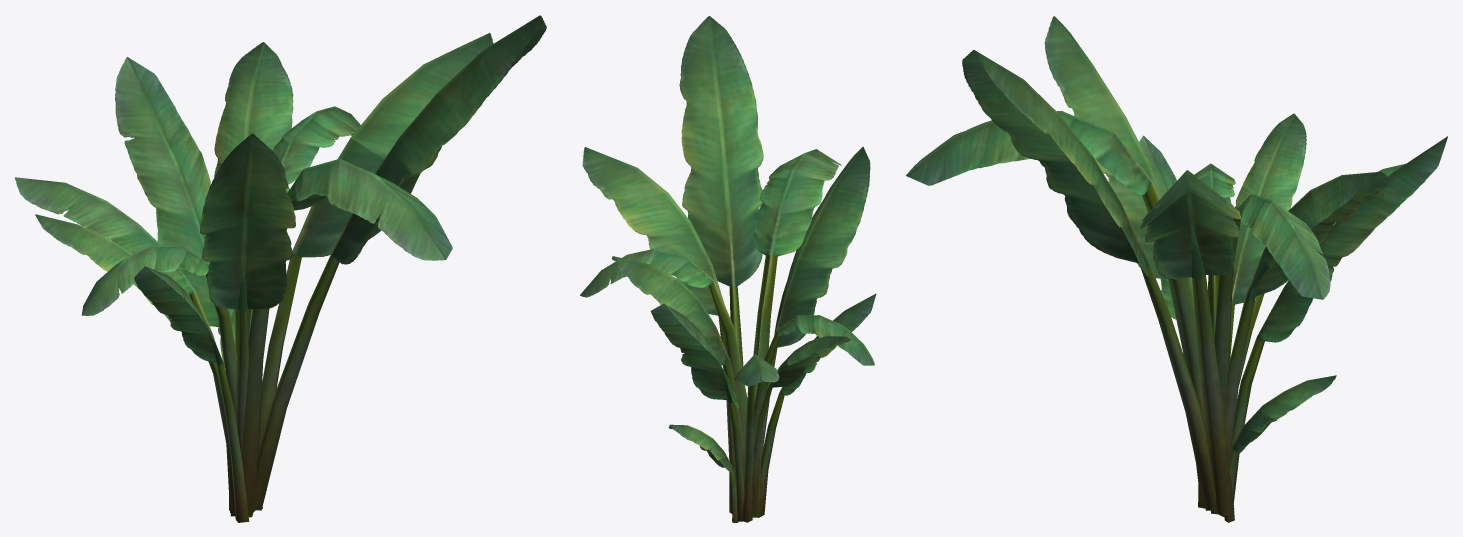
File: S_Tree_Green067.FBX
The picture shows the model from 3 angles, left to right: view 1: azimuth 30°, elevation 25°; view 2: azimuth 150°, elevation 25°; view 3: azimuth 270°, elevation 25°; orthographic projection. The views are drawn at different scales.
Visible parts, largest first — view 1: S_Tree_Green067; view 2: S_Tree_Green067; view 3: S_Tree_Green067.
Part boxes in pixels (left/top/right/bottom): S_Tree_Green067: left=15, top=15, right=546, bottom=522; S_Tree_Green067: left=580, top=16, right=876, bottom=522; S_Tree_Green067: left=906, top=16, right=1447, bottom=522.
Size of the model in its own units: 116 by 151 by 134.
